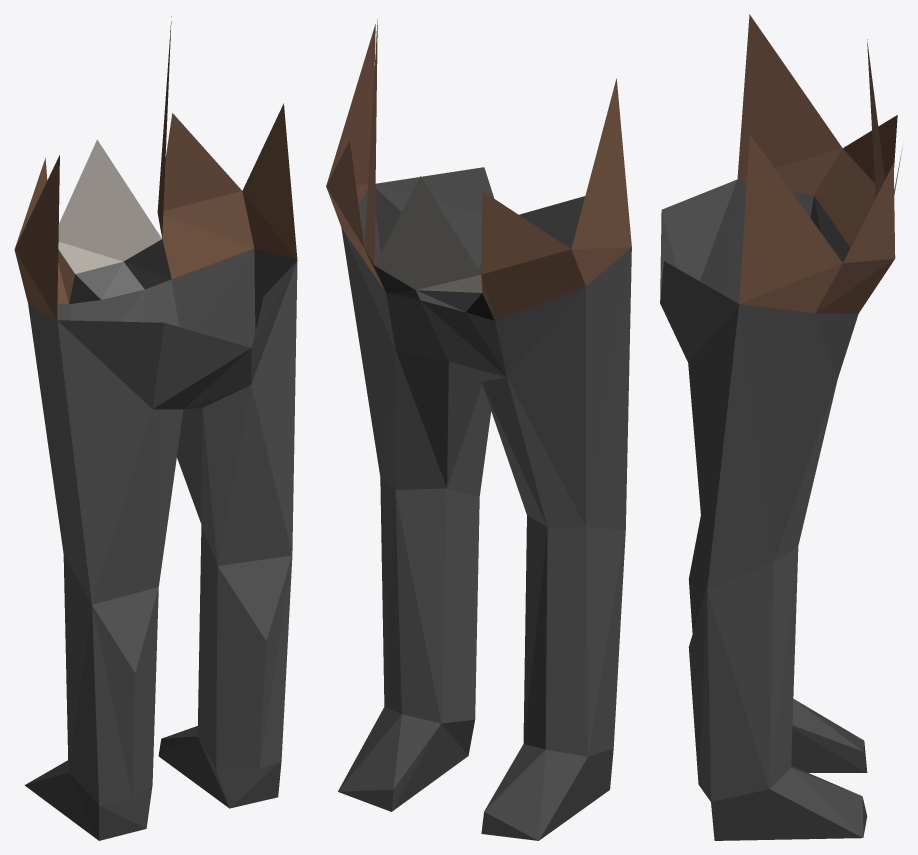
The model's file is Legs.obj.
3 views of the same model, side by side, from view 1: azimuth 30°, elevation 25°; view 2: azimuth 150°, elevation 25°; view 3: azimuth 270°, elevation 25° (orthographic). The views are drawn at different scales.
Bounding box in the file's own units: 0.431 × 1.26 × 0.3553.
Materials: 1 (1 with a texture image).
